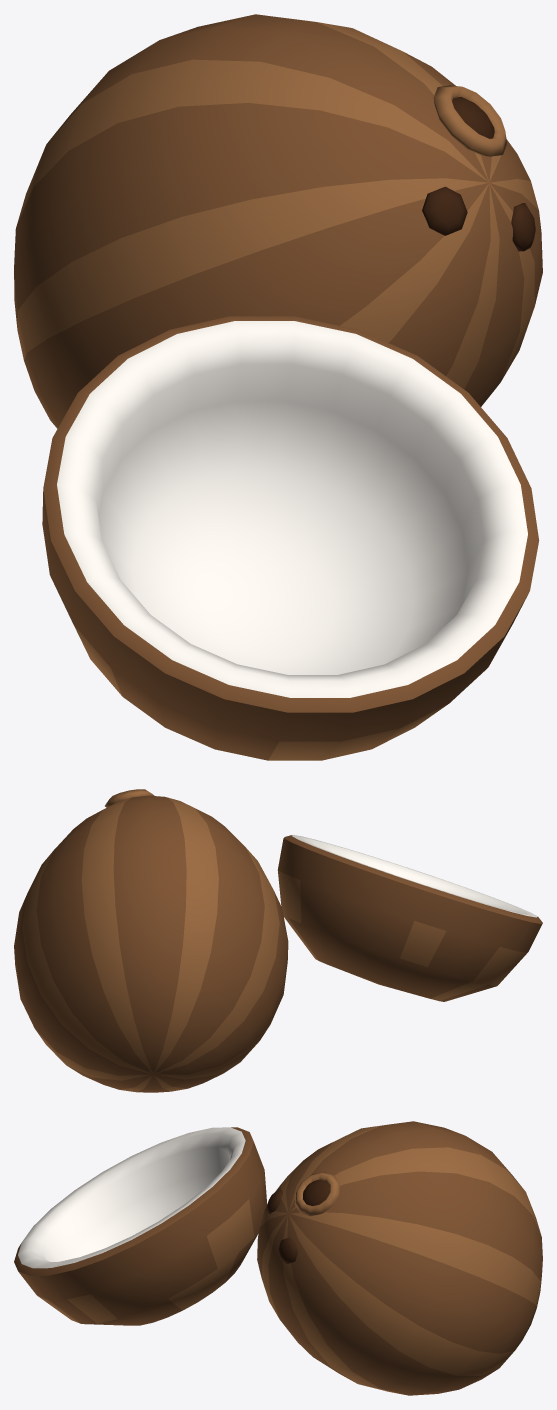
File: coco.glb
3 renders of one model, top to bottom at view 1: azimuth 30°, elevation 25°; view 2: azimuth 150°, elevation 25°; view 3: azimuth 270°, elevation 25°, orthographic. The views are drawn at different scales.
Parts seen in each view (by area): view 1: coco; view 2: coco; view 3: coco.
Boxes of the visible parts, x1=… form: coco: x1=14, y1=14, x2=542, y2=760; coco: x1=14, y1=789, x2=542, y2=1092; coco: x1=14, y1=1121, x2=542, y2=1395.
Bounding box in the file's own units: 0.1855 × 0.1228 × 0.2337.
